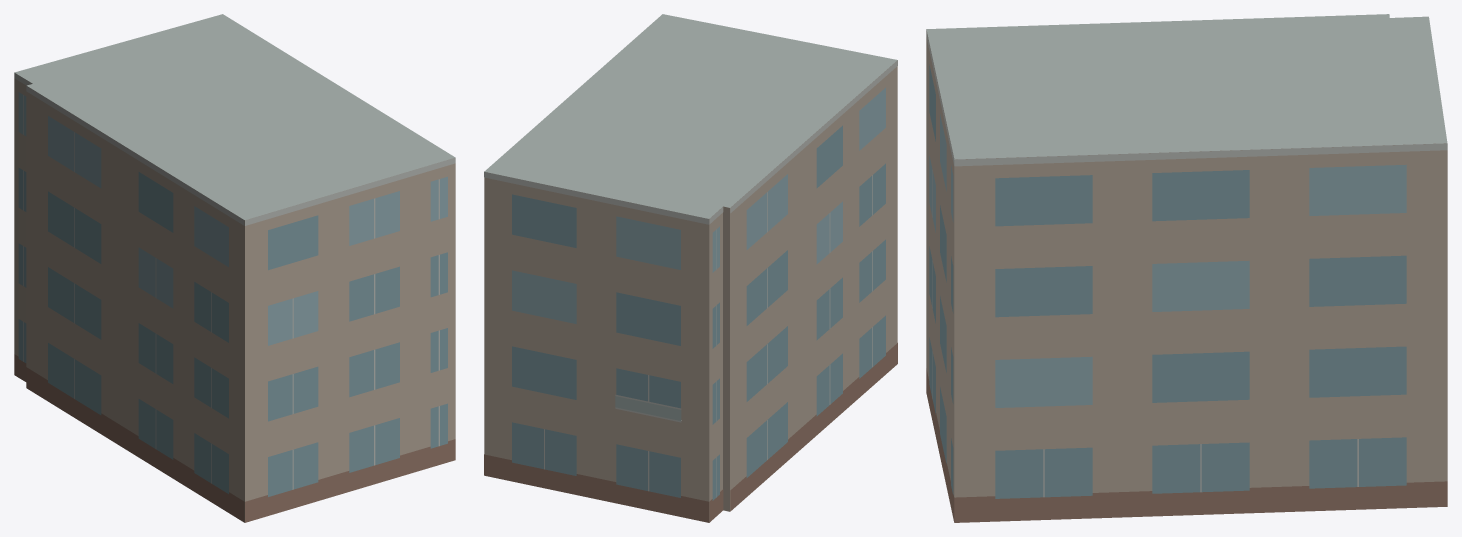
The model's file is survey-upis-32841321.glb.
3 renders of one model, left to right at view 1: azimuth 30°, elevation 25°; view 2: azimuth 150°, elevation 25°; view 3: azimuth 270°, elevation 25°, orthographic. The views are drawn at different scales.
Visible parts, largest first — view 1: survey-upis-32841321.tmp; view 2: survey-upis-32841321.tmp; view 3: survey-upis-32841321.tmp.
Part boxes in pixels (<box>): survey-upis-32841321.tmp: <box>14,14,455,522</box>; survey-upis-32841321.tmp: <box>484,14,897,522</box>; survey-upis-32841321.tmp: <box>926,14,1447,522</box>.
Bounding box in the file's own units: 11 × 12.8 × 16.65.
